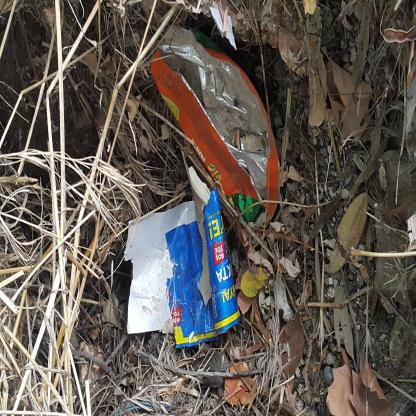trash: (34, 212, 142, 416), (97, 258, 223, 416)
